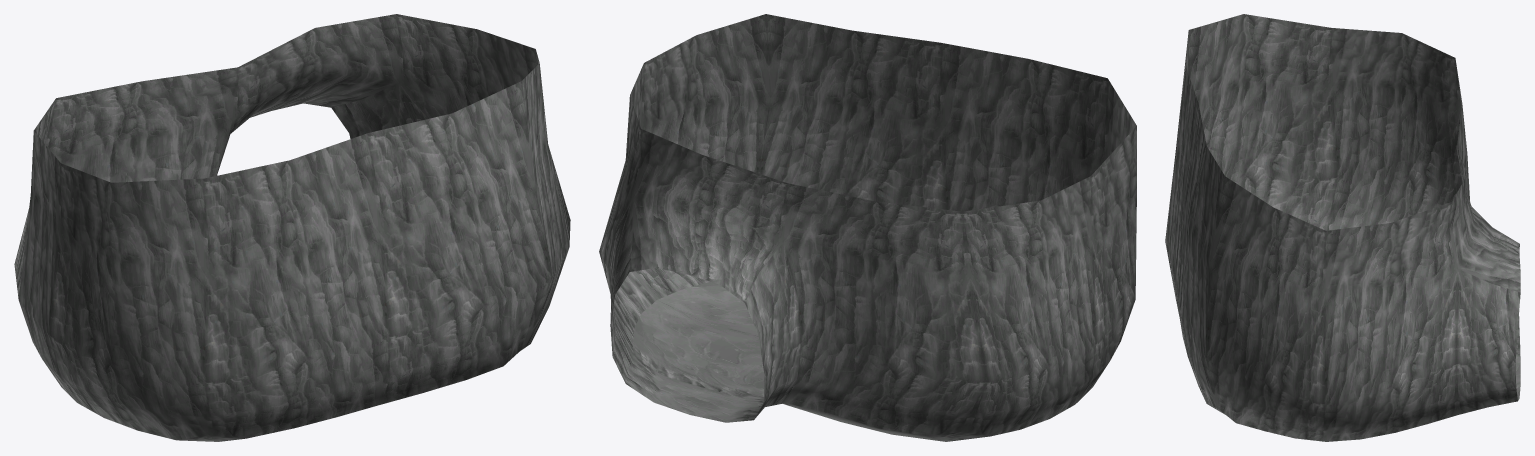
Rendered from SWORDLIGHT20_PS-AREA03-04TRANS_02.fbx.
3 renders of one model, left to right at view 1: azimuth 30°, elevation 25°; view 2: azimuth 150°, elevation 25°; view 3: azimuth 270°, elevation 25°, orthographic. The views are drawn at different scales.
Visible parts, largest first — view 1: SWORDLIGHT20_PS-AREA03-04TRANS_02; view 2: SWORDLIGHT20_PS-AREA03-04TRANS_02; view 3: SWORDLIGHT20_PS-AREA03-04TRANS_02.
Boxes of the visible parts, left/top/right/bottom form: SWORDLIGHT20_PS-AREA03-04TRANS_02: left=14, top=14, right=570, bottom=441; SWORDLIGHT20_PS-AREA03-04TRANS_02: left=599, top=14, right=1136, bottom=441; SWORDLIGHT20_PS-AREA03-04TRANS_02: left=1165, top=14, right=1520, bottom=441.
Bounding box in the file's own units: 215296 × 114506 × 145609.
3 materials, 3 textured.
